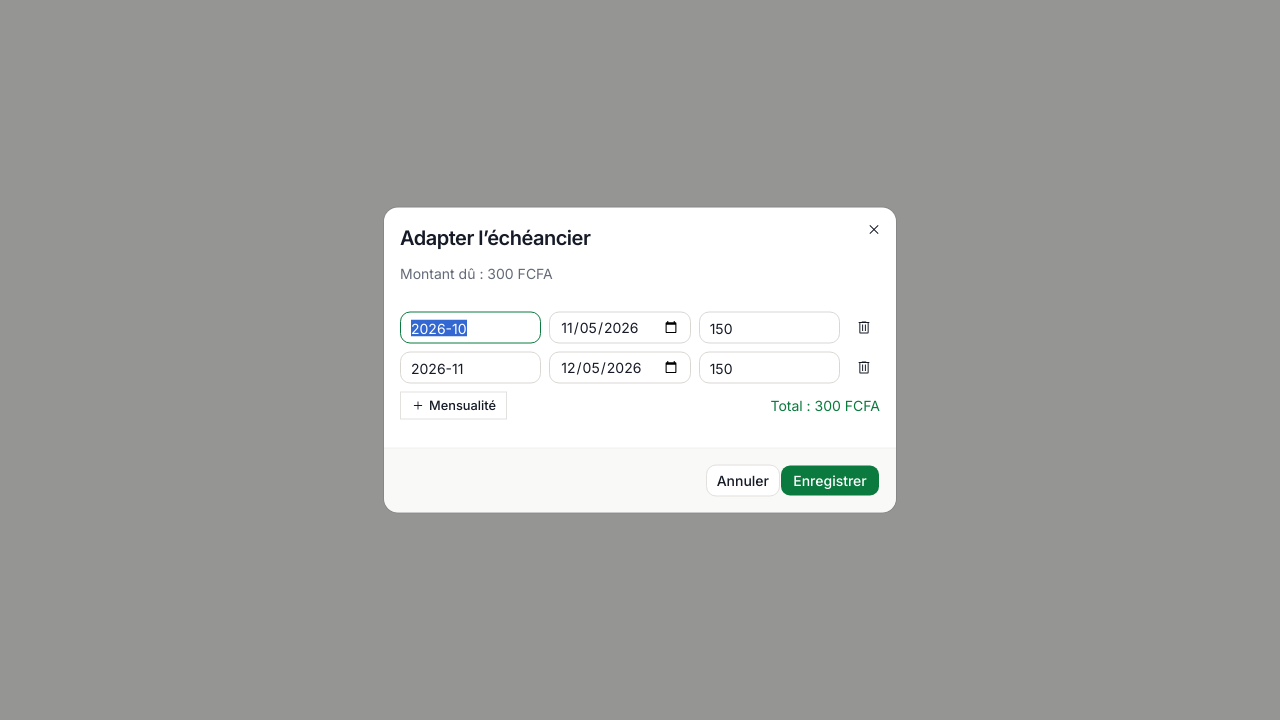
it: Adaptation de l’échéancier › affiche le message précis du serveur
Click the button "Enregistrer" at (830, 480), box x1=780 y1=464 x2=880 y2=496
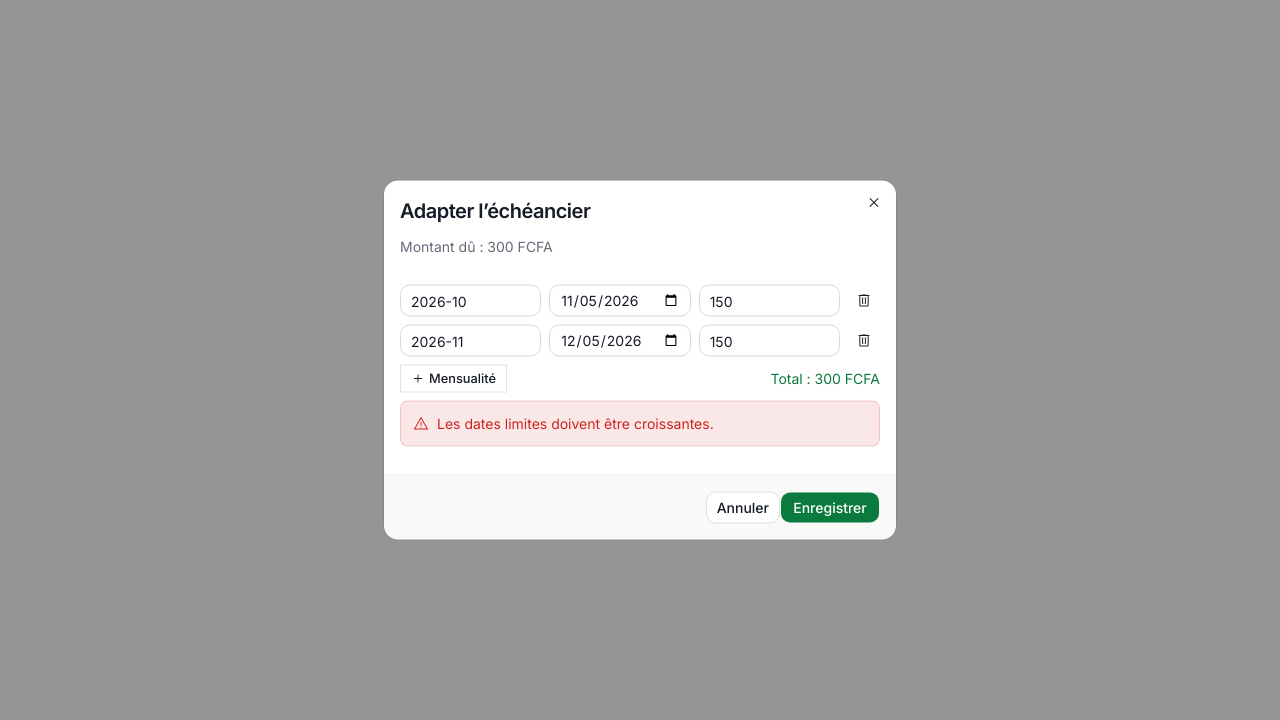
Check: the text "Les dates limites doivent être croissantes." is shown, box x1=437 y1=414 x2=714 y2=434
